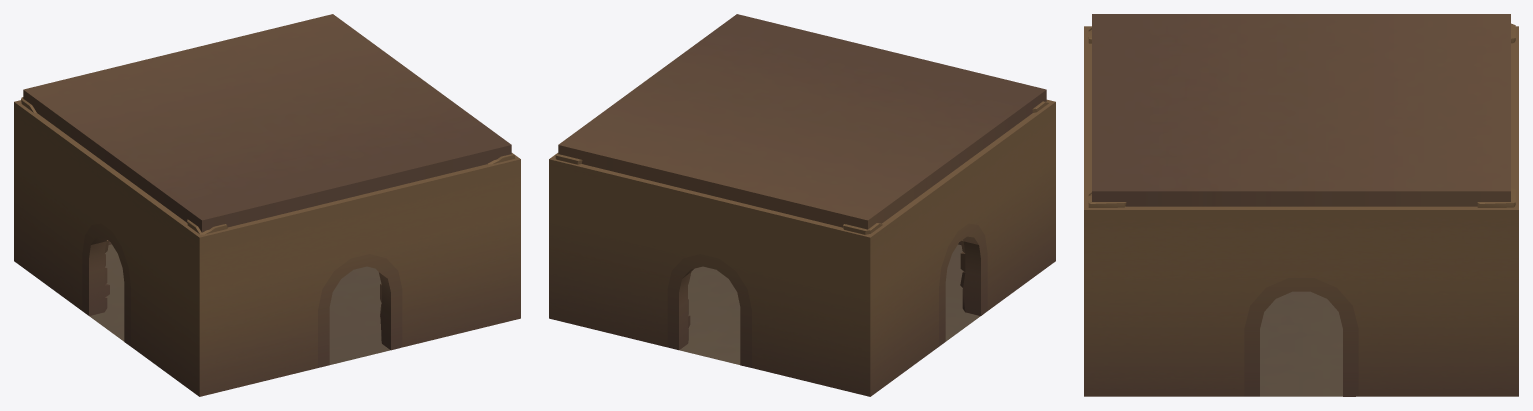
The picture shows the model from 3 angles, left to right: view 1: azimuth 30°, elevation 25°; view 2: azimuth 150°, elevation 25°; view 3: azimuth 270°, elevation 25°; orthographic projection. The views are drawn at different scales.
Parts seen in each view (by area): view 1: wall, top, door, floor, pillar; view 2: wall, top, door, floor, pillar; view 3: top, wall, floor, door, pillar.
Part boxes in pixels (x1=…): wall: x1=14, y1=100, x2=520, y2=396; top: x1=23, y1=14, x2=511, y2=232; door: x1=82, y1=223, x2=402, y2=367; floor: x1=89, y1=244, x2=390, y2=364; pillar: x1=21, y1=97, x2=515, y2=234; wall: x1=549, y1=99, x2=1055, y2=396; top: x1=558, y1=14, x2=1046, y2=229; door: x1=667, y1=223, x2=987, y2=367; floor: x1=679, y1=244, x2=980, y2=364; pillar: x1=555, y1=101, x2=1048, y2=234; top: x1=1092, y1=14, x2=1510, y2=206; wall: x1=1084, y1=26, x2=1518, y2=396; floor: x1=1260, y1=291, x2=1342, y2=396; door: x1=1244, y1=278, x2=1358, y2=396; pillar: x1=1088, y1=23, x2=1515, y2=207.
Bounding box in the file's own units: 760 × 392 × 760.
Materials: 1 (1 with a texture image).
